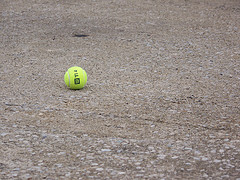tennis ball: (63, 64, 88, 93)
